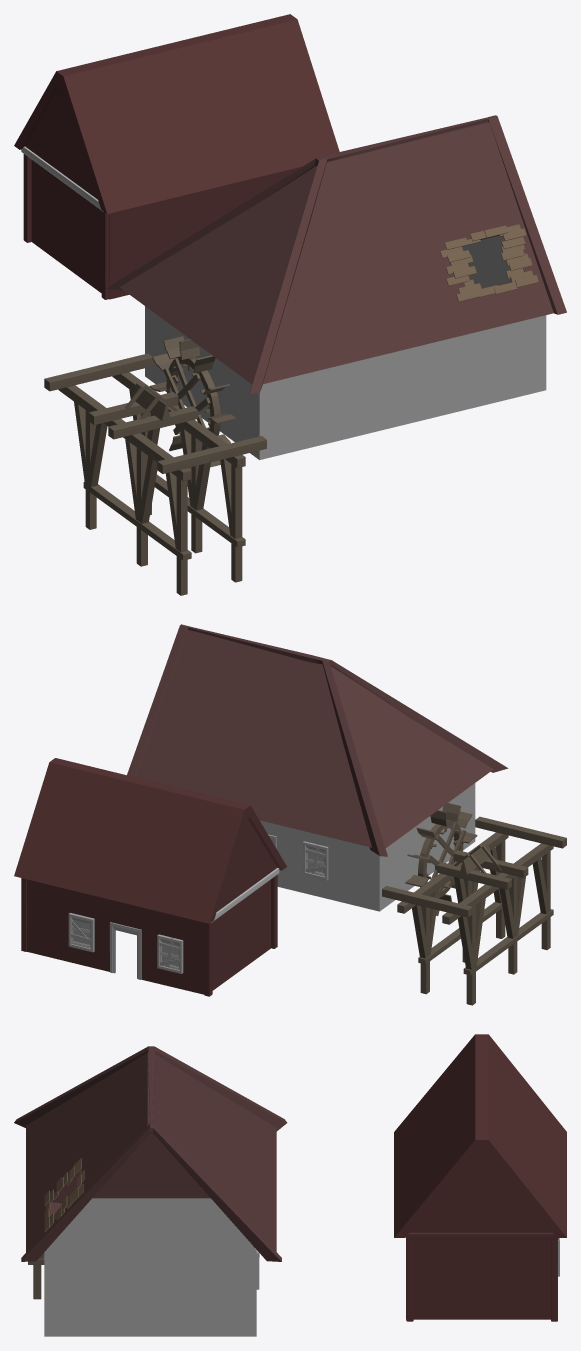
The model's file is HouseAndShackFINALV10.fbx.
3 views of the same model, one above another, from view 1: azimuth 30°, elevation 25°; view 2: azimuth 150°, elevation 25°; view 3: azimuth 270°, elevation 25° (orthographic). The views are drawn at different scales.
Visible parts, largest first — view 1: pPlane5, polySurface30, pCube162, pCube175, RoofTrim, BlocksTop, MillWheel, pCube161, BlocksBottom, Pillar3, Pillar1, Pillar5 (+6 smaller); view 2: pPlane5, polySurface30, pCube175, pCube162, RoofTrim, BlocksTop, MillWheel, BlocksBottom, Pillar3, Pillar1, Pillar2, Pillar4 (+10 smaller); view 3: pPlane5, pCube162, polySurface30, pCube175, RoofTrim, polySurface38, pCube161, polySurface39, polySurface40.
Boxes of the visible parts, bbox=[...] form: pPlane5: bbox=[119, 122, 553, 383]; polySurface30: bbox=[14, 14, 339, 213]; pCube162: bbox=[145, 235, 546, 459]; pCube175: bbox=[31, 160, 302, 299]; RoofTrim: bbox=[105, 115, 566, 394]; BlocksTop: bbox=[58, 372, 245, 481]; MillWheel: bbox=[149, 336, 236, 467]; pCube161: bbox=[440, 224, 538, 301]; BlocksBottom: bbox=[83, 474, 245, 560]; Pillar3: bbox=[73, 396, 107, 529]; Pillar1: bbox=[125, 439, 157, 566]; Pillar5: bbox=[220, 459, 242, 582]; pPlane5: bbox=[137, 630, 493, 847]; polySurface30: bbox=[14, 758, 286, 923]; pCube175: bbox=[27, 879, 270, 994]; pCube162: bbox=[260, 783, 475, 911]; RoofTrim: bbox=[127, 624, 508, 856]; BlocksTop: bbox=[397, 832, 553, 924]; MillWheel: bbox=[405, 803, 477, 915]; BlocksBottom: bbox=[418, 902, 553, 975]; Pillar3: bbox=[458, 894, 486, 1005]; Pillar1: bbox=[499, 876, 525, 974]; Pillar2: bbox=[412, 888, 439, 994]; Pillar4: bbox=[532, 851, 550, 949]; pPlane5: bbox=[26, 1052, 276, 1252]; pCube162: bbox=[44, 1186, 256, 1336]; polySurface30: bbox=[394, 1034, 566, 1237]; pCube175: bbox=[406, 1237, 550, 1319]; RoofTrim: bbox=[14, 1046, 287, 1261]; polySurface38: bbox=[406, 1232, 558, 1239]; pCube161: bbox=[44, 1158, 84, 1232]; polySurface39: bbox=[406, 1240, 413, 1321]; polySurface40: bbox=[551, 1240, 557, 1321].
Size of the model in its own units: 18.15 by 14.79 by 23.45.
